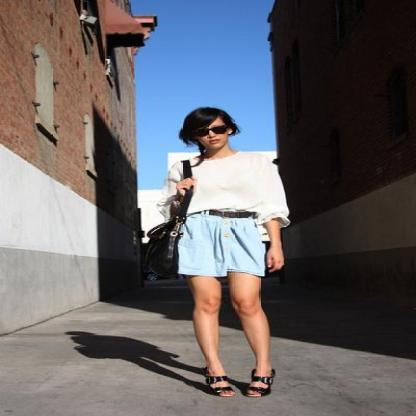bag: (148, 158, 202, 278)
shirt: (156, 145, 289, 227)
shoe: (198, 374, 274, 396)
shorts: (178, 213, 267, 276)
sunglass: (206, 125, 236, 135)
